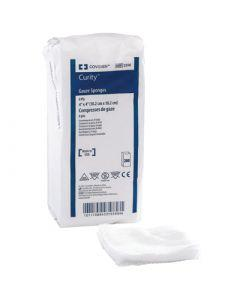bandage: (98, 222, 199, 264)
